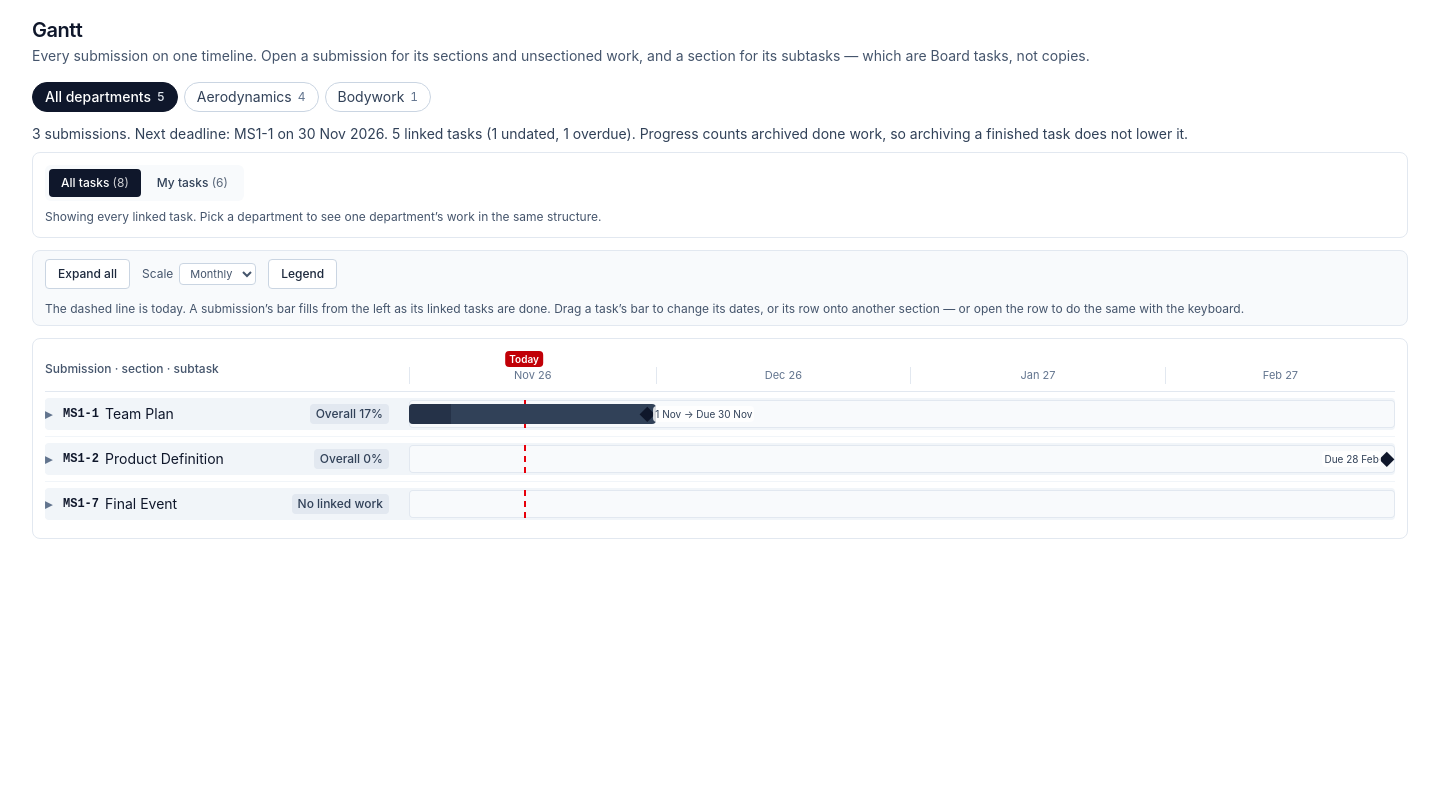
Scenario: the timeline structure › shows tasks linked to a submission before any section as an explicit group, with no fake section record
Click the button "▸ MS1-1 Team Plan" at x=109, y=414, box [45,404,174,424]
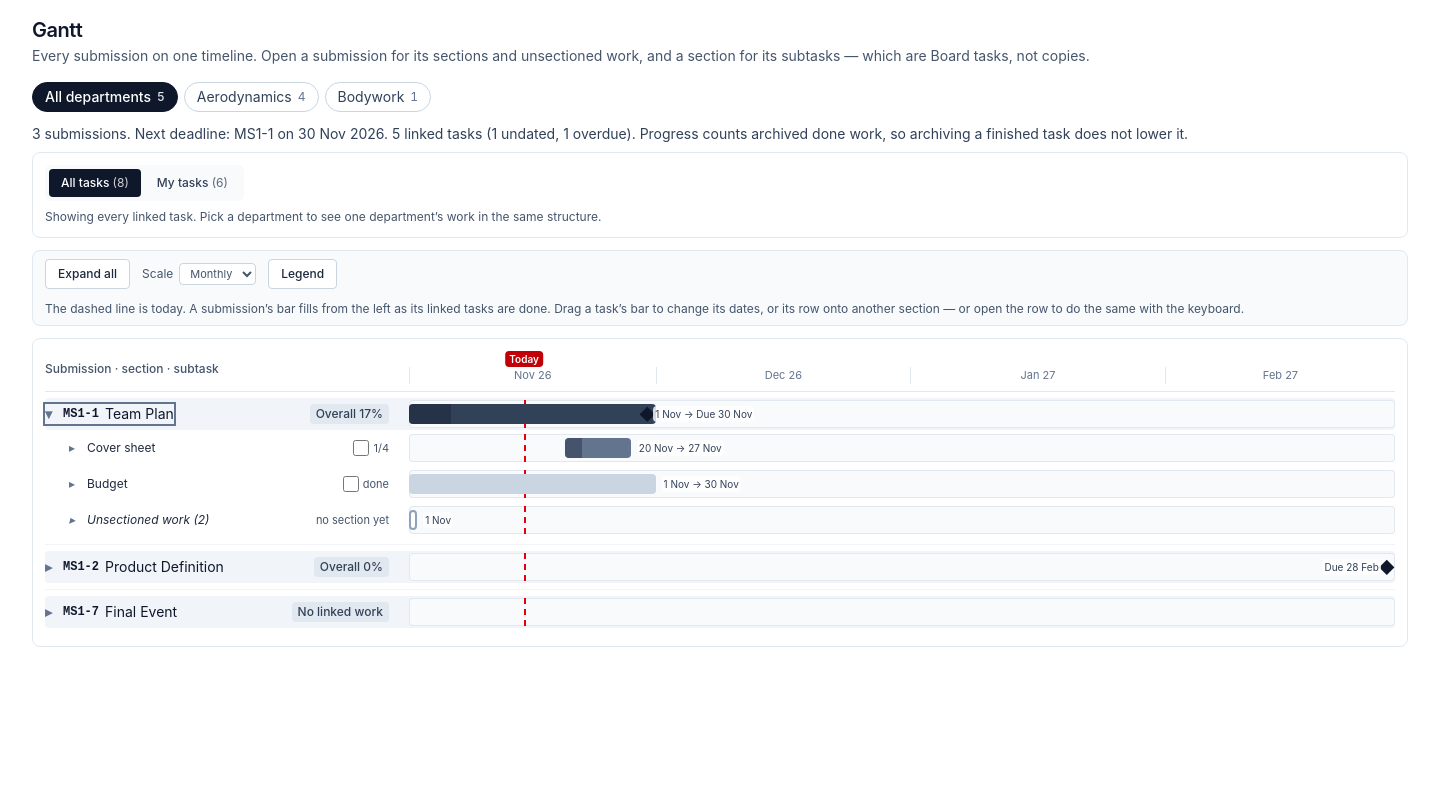
Click the button "▸ Unsectioned work (2)" at x=139, y=520, box [69,512,210,528]
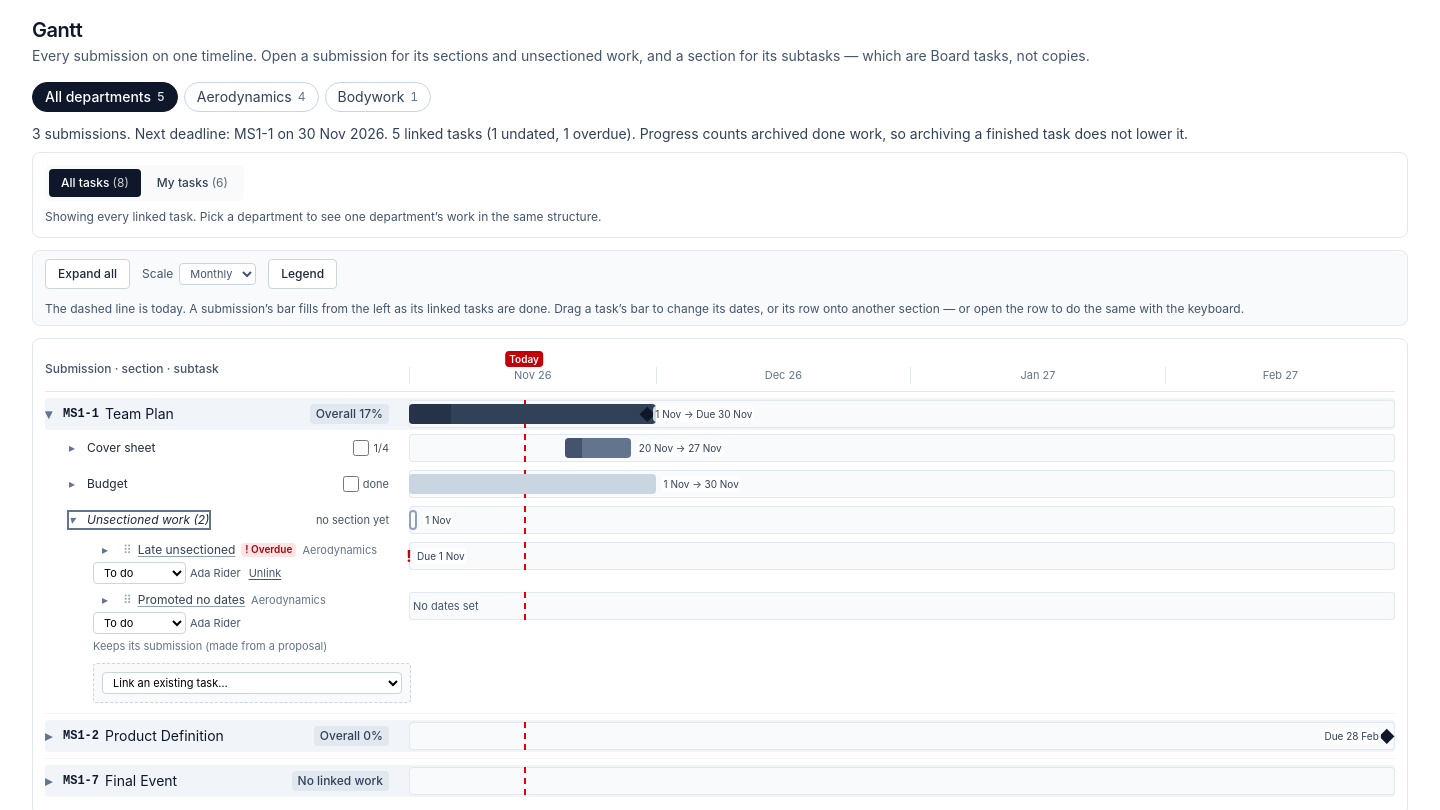
Expected: the button "▾ Unsectioned work (2)" is shown, [69,512,210,528]
Expected: the element with test id "gantt-task-t3" is shown, [45,538,1395,588]
Expected: the element with test id "gantt-task-t4" is shown, [45,588,1395,658]
